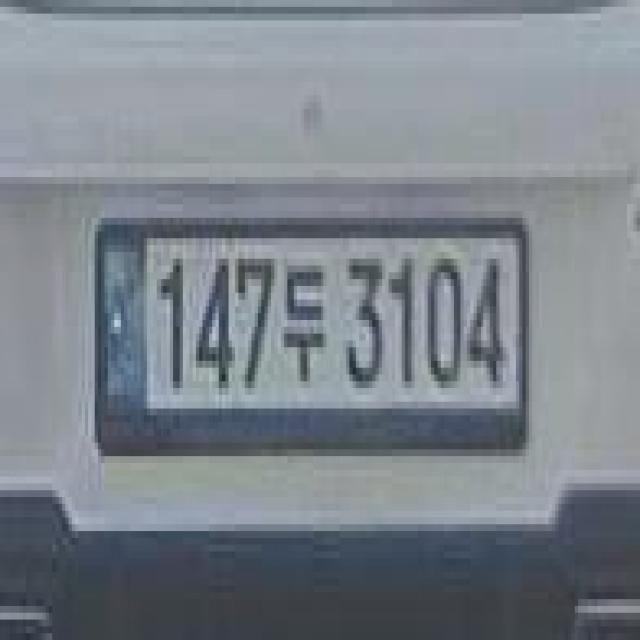illegal_plate: (85, 202, 533, 461)
